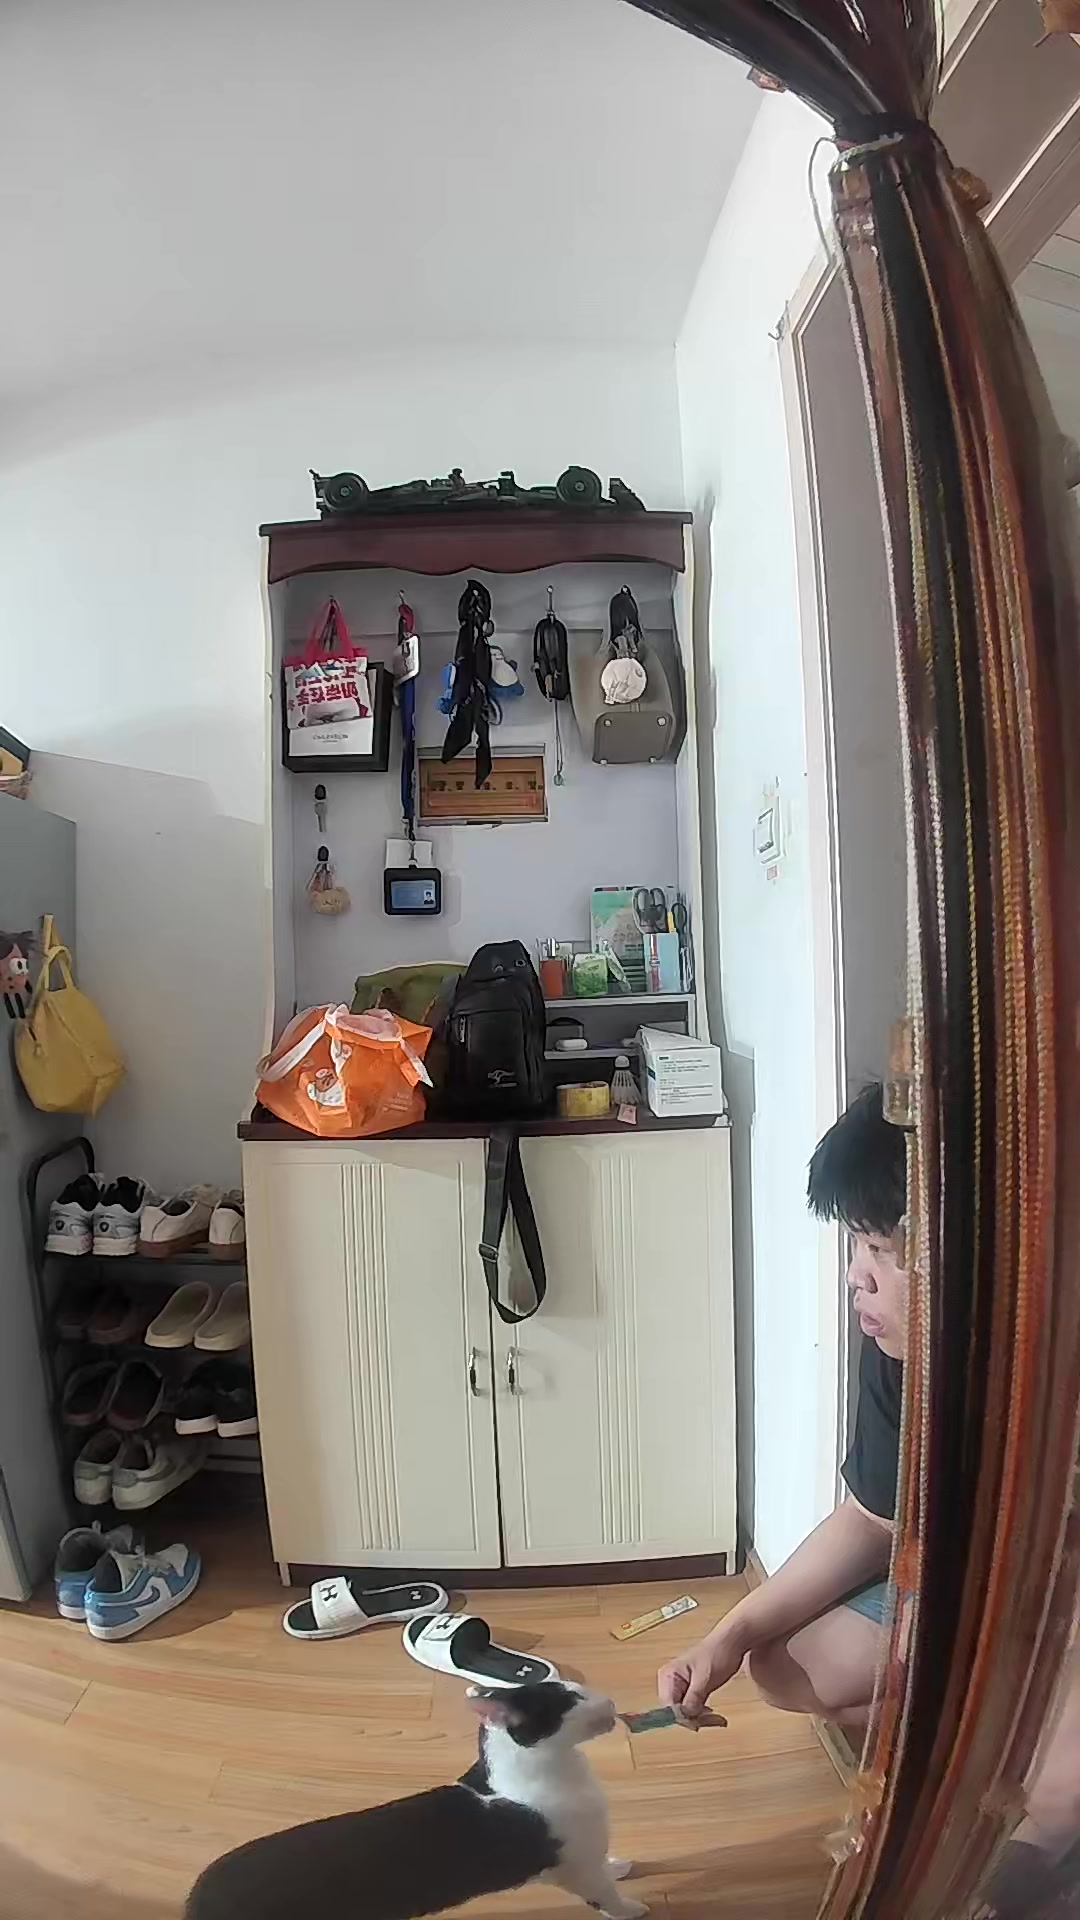dog: (183, 1679, 651, 1920)
